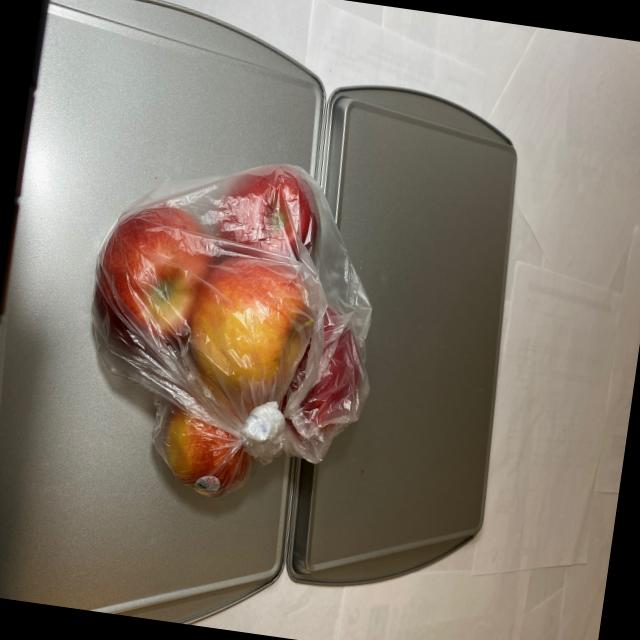apple: (64, 136, 400, 521)
